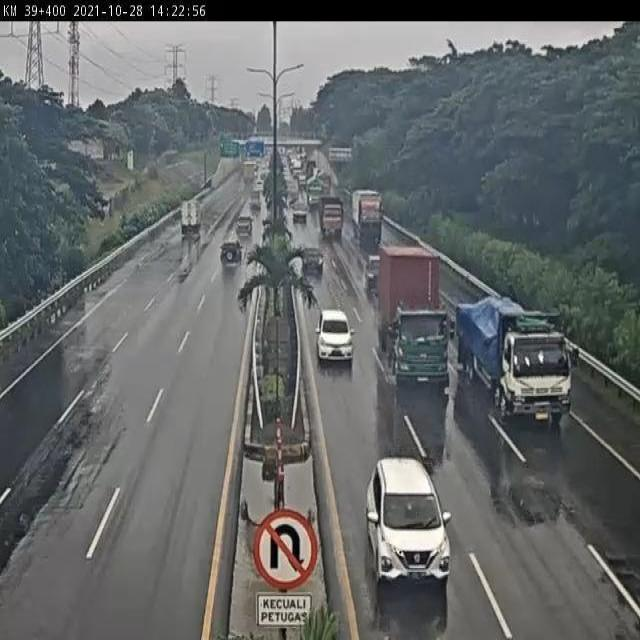Car: (363, 456, 455, 596), (314, 306, 358, 372), (302, 246, 328, 279), (219, 238, 245, 270), (234, 212, 256, 242), (290, 199, 308, 223)
Truck: (454, 292, 577, 430), (379, 240, 454, 394), (352, 188, 383, 242), (318, 194, 344, 243), (178, 198, 202, 239)
